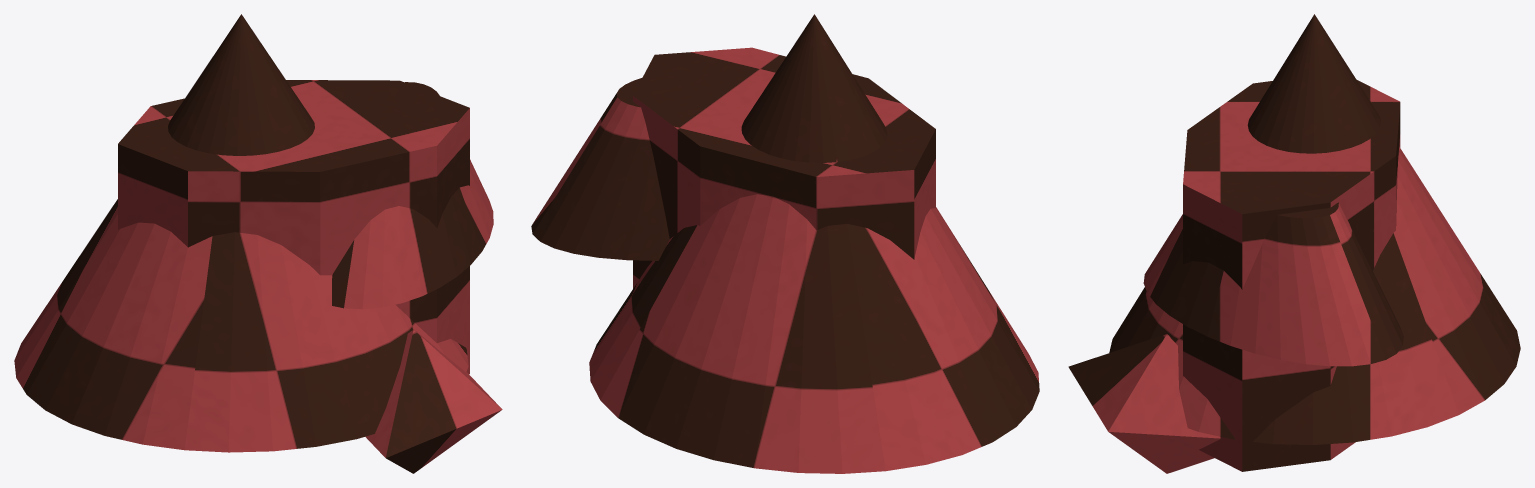
3 renders of one model, left to right at view 1: azimuth 30°, elevation 25°; view 2: azimuth 150°, elevation 25°; view 3: azimuth 270°, elevation 25°, orthographic. The views are drawn at different scales.
Visible parts, largest first — view 1: geometry_0; view 2: geometry_0; view 3: geometry_0.
Boxes of the visible parts, x1,y1,x2,y2 form: geometry_0: (14, 14, 502, 473); geometry_0: (531, 14, 1039, 473); geometry_0: (1068, 14, 1520, 473).
Bounding box in the file's own units: 1.85 × 1.71 × 1.69.
1 material, 1 textured.
